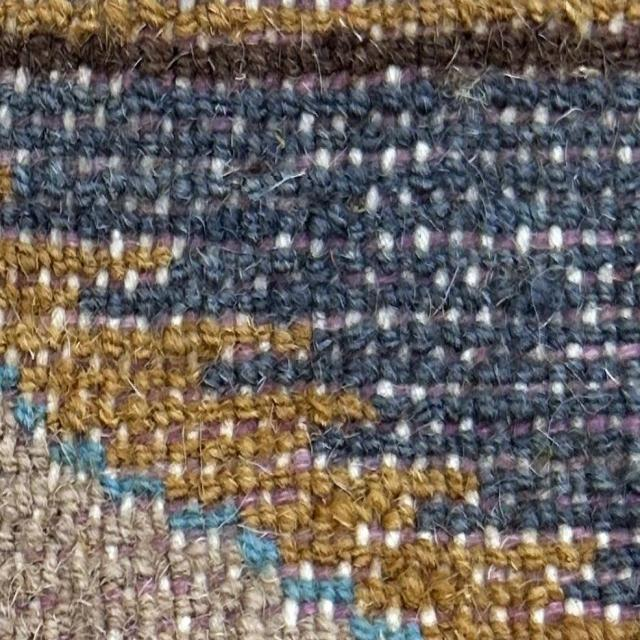Knot: (13, 330, 234, 498), (153, 307, 320, 364), (532, 270, 564, 322), (238, 528, 278, 567), (240, 578, 266, 634), (511, 282, 537, 334), (104, 1, 136, 40), (455, 598, 484, 638), (56, 600, 86, 638), (316, 340, 343, 382), (4, 474, 32, 514), (132, 427, 163, 463), (507, 22, 530, 70), (345, 353, 379, 385), (13, 398, 43, 434), (14, 600, 42, 638), (487, 23, 511, 67), (312, 428, 344, 460), (223, 184, 244, 232), (382, 346, 410, 382), (331, 248, 359, 284), (202, 504, 226, 546), (74, 548, 97, 590), (401, 566, 425, 606), (568, 448, 588, 496), (550, 399, 579, 432), (570, 42, 598, 76), (138, 596, 160, 638), (233, 118, 256, 158), (18, 528, 44, 563), (360, 230, 386, 265), (358, 580, 386, 612), (80, 288, 106, 322), (170, 176, 192, 216), (342, 394, 371, 424), (316, 114, 340, 150), (192, 112, 212, 154), (136, 286, 160, 321), (30, 151, 50, 193), (607, 442, 628, 482), (414, 76, 436, 114), (132, 496, 154, 534), (171, 509, 204, 534), (78, 438, 106, 467), (204, 362, 234, 389), (421, 350, 446, 382), (451, 198, 476, 230), (80, 31, 105, 63), (361, 112, 382, 150), (348, 84, 370, 120), (92, 199, 114, 235), (321, 282, 345, 315), (366, 486, 388, 522), (52, 357, 76, 390), (556, 112, 578, 148), (316, 312, 340, 345), (48, 439, 76, 467), (12, 320, 35, 354), (220, 532, 243, 566), (447, 362, 470, 396), (138, 161, 158, 200), (169, 263, 189, 302), (330, 494, 354, 526), (392, 34, 416, 66), (120, 197, 140, 235), (566, 340, 586, 378), (564, 266, 582, 308), (188, 218, 206, 260), (206, 196, 224, 238), (482, 152, 500, 194), (448, 266, 466, 308), (242, 86, 264, 120), (474, 396, 496, 430), (288, 357, 310, 391), (64, 235, 84, 272), (30, 203, 50, 240), (298, 110, 316, 151), (187, 422, 210, 454), (495, 198, 517, 231), (174, 5, 196, 38), (348, 315, 370, 348), (431, 264, 449, 304), (212, 131, 232, 167), (208, 552, 226, 592), (500, 484, 518, 524), (490, 605, 512, 637), (536, 24, 558, 56), (588, 358, 610, 390), (509, 388, 531, 420), (472, 344, 494, 376), (530, 189, 548, 228), (600, 106, 618, 145), (374, 391, 400, 418), (382, 502, 407, 530), (202, 255, 222, 290), (432, 578, 456, 607), (55, 512, 76, 545), (208, 0, 231, 30), (618, 110, 637, 146), (500, 112, 518, 150), (221, 464, 239, 502), (138, 105, 160, 136), (412, 403, 434, 434), (597, 262, 614, 302), (316, 599, 336, 633), (222, 599, 242, 633), (479, 480, 499, 514), (202, 470, 222, 504), (328, 200, 348, 234), (544, 568, 564, 602), (270, 276, 290, 310), (604, 22, 624, 56), (168, 474, 194, 500), (138, 473, 165, 498), (101, 558, 125, 586), (518, 141, 536, 178), (173, 225, 191, 262), (333, 161, 352, 196), (162, 324, 184, 354), (0, 200, 20, 233), (412, 468, 432, 501), (278, 531, 298, 564), (347, 288, 369, 318), (376, 302, 398, 332), (124, 72, 144, 105), (410, 540, 432, 570), (184, 274, 202, 310), (600, 186, 618, 222), (445, 466, 463, 502), (14, 160, 32, 196), (413, 134, 431, 170), (21, 366, 48, 390), (448, 158, 466, 194), (383, 70, 401, 106), (154, 156, 172, 192), (466, 160, 484, 196), (380, 184, 399, 218), (493, 270, 512, 304), (349, 614, 377, 637), (312, 470, 332, 502), (510, 606, 530, 638), (420, 604, 440, 636), (520, 499, 540, 531), (574, 510, 594, 542), (576, 162, 596, 194), (401, 70, 417, 110), (321, 40, 341, 72), (592, 4, 608, 44), (604, 577, 626, 606), (530, 399, 548, 434), (16, 2, 34, 37), (288, 316, 312, 342), (614, 81, 640, 105), (28, 109, 44, 148), (176, 88, 196, 119), (495, 448, 517, 476), (290, 280, 312, 308), (276, 504, 298, 532), (332, 573, 354, 601), (72, 85, 94, 113), (134, 549, 156, 577), (62, 272, 80, 306), (48, 154, 66, 188), (82, 511, 100, 545), (14, 114, 32, 148), (492, 312, 510, 346), (591, 451, 609, 485), (352, 45, 370, 79), (538, 499, 557, 531), (158, 112, 174, 150), (264, 597, 284, 627), (236, 313, 256, 343), (108, 286, 128, 316), (238, 360, 258, 390), (441, 317, 461, 347), (138, 369, 164, 392), (238, 488, 264, 511), (31, 475, 49, 508), (176, 124, 194, 157), (544, 321, 566, 348), (265, 89, 283, 122), (282, 112, 300, 145), (610, 513, 628, 546), (618, 167, 640, 194), (142, 71, 160, 104), (350, 206, 369, 237), (18, 245, 38, 274), (299, 72, 319, 101), (479, 450, 496, 484), (166, 424, 184, 456), (256, 357, 274, 389), (257, 426, 275, 458), (283, 46, 301, 78), (90, 150, 108, 182), (282, 86, 300, 118), (414, 286, 430, 322), (582, 122, 600, 154), (464, 466, 480, 502), (238, 456, 256, 488), (32, 50, 50, 82), (500, 158, 516, 194), (211, 108, 233, 134), (166, 362, 188, 388), (0, 361, 19, 391), (551, 82, 570, 112), (382, 557, 401, 587), (445, 119, 462, 152), (106, 604, 126, 632), (582, 294, 598, 329), (394, 120, 414, 148), (308, 208, 328, 236), (596, 222, 616, 250), (530, 602, 546, 637), (264, 126, 284, 154), (202, 316, 222, 344), (402, 608, 422, 636), (38, 246, 52, 286), (431, 191, 451, 219), (594, 505, 610, 540), (260, 208, 280, 236), (483, 201, 499, 236), (526, 567, 546, 595), (461, 316, 479, 347), (431, 136, 449, 167), (158, 75, 176, 106), (278, 210, 300, 235), (414, 224, 430, 258), (400, 224, 416, 258), (384, 466, 400, 500), (108, 92, 124, 126), (556, 472, 572, 506), (0, 396, 16, 430), (50, 248, 66, 282), (152, 496, 168, 530), (242, 208, 260, 238), (98, 359, 116, 389), (126, 602, 141, 638), (108, 168, 126, 198), (90, 66, 108, 96), (62, 106, 76, 144), (449, 506, 468, 534), (170, 554, 192, 578), (511, 416, 533, 440), (272, 248, 294, 272), (587, 410, 609, 434), (114, 356, 130, 389), (488, 582, 510, 606), (47, 114, 63, 147), (544, 164, 566, 188), (560, 198, 582, 222), (328, 66, 350, 90), (316, 402, 338, 426), (81, 246, 97, 279), (520, 545, 544, 567), (125, 393, 146, 418), (384, 607, 402, 636), (0, 240, 18, 269), (428, 227, 448, 253), (620, 205, 640, 231), (441, 96, 461, 122), (604, 386, 624, 412), (192, 171, 212, 197), (274, 182, 294, 208), (518, 78, 537, 105), (624, 23, 640, 55), (428, 468, 444, 500), (62, 188, 78, 220), (624, 461, 640, 493), (382, 116, 398, 148), (32, 440, 48, 472), (578, 536, 594, 568), (244, 52, 260, 84), (20, 288, 35, 322), (152, 241, 173, 265), (209, 608, 227, 636), (136, 242, 154, 270), (496, 354, 514, 382), (220, 314, 238, 342), (192, 336, 210, 364), (0, 598, 14, 634), (292, 420, 310, 448), (413, 320, 431, 348), (233, 417, 258, 437), (190, 612, 210, 637), (192, 68, 212, 93), (217, 288, 237, 313), (398, 274, 414, 305), (595, 534, 610, 567), (227, 51, 242, 84), (459, 562, 478, 588), (431, 168, 450, 194), (465, 78, 484, 104), (385, 582, 402, 611), (36, 311, 50, 346), (622, 412, 640, 439), (292, 227, 310, 254), (274, 405, 292, 432), (600, 302, 622, 324), (50, 306, 66, 336), (562, 224, 582, 248), (380, 145, 396, 175), (155, 612, 175, 636), (466, 260, 482, 290), (584, 598, 604, 622), (136, 575, 156, 599), (14, 61, 29, 93), (516, 222, 531, 254), (4, 264, 20, 294), (78, 121, 94, 151), (483, 118, 498, 150), (192, 150, 212, 174), (624, 230, 640, 260), (300, 42, 316, 72), (94, 94, 108, 128), (41, 85, 58, 113), (480, 266, 494, 300), (496, 404, 510, 438), (464, 102, 483, 127), (616, 280, 635, 305), (23, 566, 41, 592), (586, 78, 604, 104), (398, 252, 416, 278), (36, 1, 54, 27), (0, 165, 14, 198), (618, 341, 640, 362), (292, 447, 312, 470), (297, 600, 317, 623), (544, 600, 564, 623), (526, 362, 546, 385), (580, 578, 600, 601), (398, 455, 415, 482), (273, 485, 297, 504), (253, 272, 268, 302), (365, 182, 380, 212), (510, 582, 528, 607), (110, 228, 124, 260), (80, 208, 96, 236), (34, 286, 50, 314), (0, 428, 16, 456), (282, 598, 298, 626), (444, 406, 460, 434), (434, 544, 450, 572), (222, 254, 238, 282), (476, 318, 492, 346), (582, 267, 598, 295), (50, 51, 64, 83), (460, 427, 476, 455), (516, 198, 532, 226), (272, 48, 286, 80), (462, 294, 478, 322), (190, 362, 207, 388), (569, 82, 586, 108), (361, 434, 381, 456), (501, 528, 521, 550), (584, 341, 604, 363), (618, 322, 640, 342), (542, 457, 564, 477), (625, 487, 640, 516), (624, 379, 640, 406), (155, 189, 171, 216), (133, 339, 149, 366), (100, 510, 112, 546), (282, 576, 300, 600), (496, 231, 514, 255), (316, 516, 334, 540), (414, 185, 432, 209), (607, 410, 623, 437), (488, 82, 506, 106), (612, 256, 630, 280), (76, 152, 91, 180), (49, 224, 64, 252), (139, 216, 154, 244), (334, 601, 354, 622), (400, 184, 415, 212), (597, 136, 611, 166), (64, 156, 78, 186), (465, 227, 480, 255), (213, 71, 228, 99), (98, 338, 114, 364), (558, 517, 574, 543), (60, 492, 76, 518), (124, 234, 140, 260), (108, 262, 124, 288), (76, 62, 92, 88), (194, 32, 210, 58), (144, 324, 160, 350), (156, 572, 172, 598), (531, 227, 549, 250), (622, 605, 640, 628), (394, 417, 411, 441), (94, 240, 111, 264), (77, 184, 94, 208), (350, 451, 365, 478), (533, 100, 548, 127), (315, 144, 331, 169), (111, 142, 127, 167), (565, 596, 583, 618), (40, 588, 58, 610), (528, 382, 550, 400), (275, 430, 293, 452), (124, 266, 138, 294), (416, 431, 430, 459), (147, 406, 163, 430), (484, 524, 500, 548), (549, 376, 565, 400), (154, 262, 170, 286), (368, 522, 384, 546), (2, 11, 18, 35), (235, 344, 256, 362), (168, 390, 189, 408), (355, 521, 370, 546), (369, 554, 384, 579), (364, 452, 380, 475), (434, 521, 450, 544), (276, 229, 292, 252), (0, 102, 14, 128), (44, 542, 58, 568), (446, 430, 460, 456), (548, 224, 563, 248), (138, 268, 156, 288), (274, 324, 289, 348), (487, 564, 507, 582), (257, 318, 272, 342), (65, 304, 80, 328), (115, 420, 130, 444), (464, 528, 484, 546), (582, 226, 597, 250), (352, 548, 370, 568), (236, 390, 256, 408), (427, 380, 445, 400), (236, 275, 253, 296), (176, 612, 192, 634), (617, 143, 633, 165), (184, 456, 200, 478), (42, 616, 58, 638), (192, 570, 208, 592), (0, 62, 16, 84), (310, 236, 326, 258), (274, 452, 290, 474), (449, 227, 464, 250), (550, 141, 564, 165), (604, 602, 620, 623), (396, 144, 410, 168), (204, 290, 218, 314), (336, 524, 354, 542), (223, 236, 241, 254), (136, 198, 154, 216), (94, 267, 108, 290), (78, 340, 94, 360), (258, 234, 274, 254), (624, 2, 640, 22), (20, 224, 36, 244), (0, 558, 16, 578), (300, 559, 315, 580), (382, 450, 396, 472), (242, 234, 257, 254), (119, 313, 137, 329), (187, 386, 203, 404), (420, 518, 432, 542), (379, 278, 397, 294), (632, 566, 640, 602), (292, 249, 304, 273), (0, 80, 14, 100), (0, 299, 10, 326), (349, 146, 362, 166), (386, 530, 400, 548), (36, 348, 50, 366), (0, 126, 12, 146), (0, 530, 15, 546), (238, 302, 254, 316), (626, 360, 640, 376), (164, 404, 174, 426), (632, 144, 640, 164), (604, 633, 624, 640)
